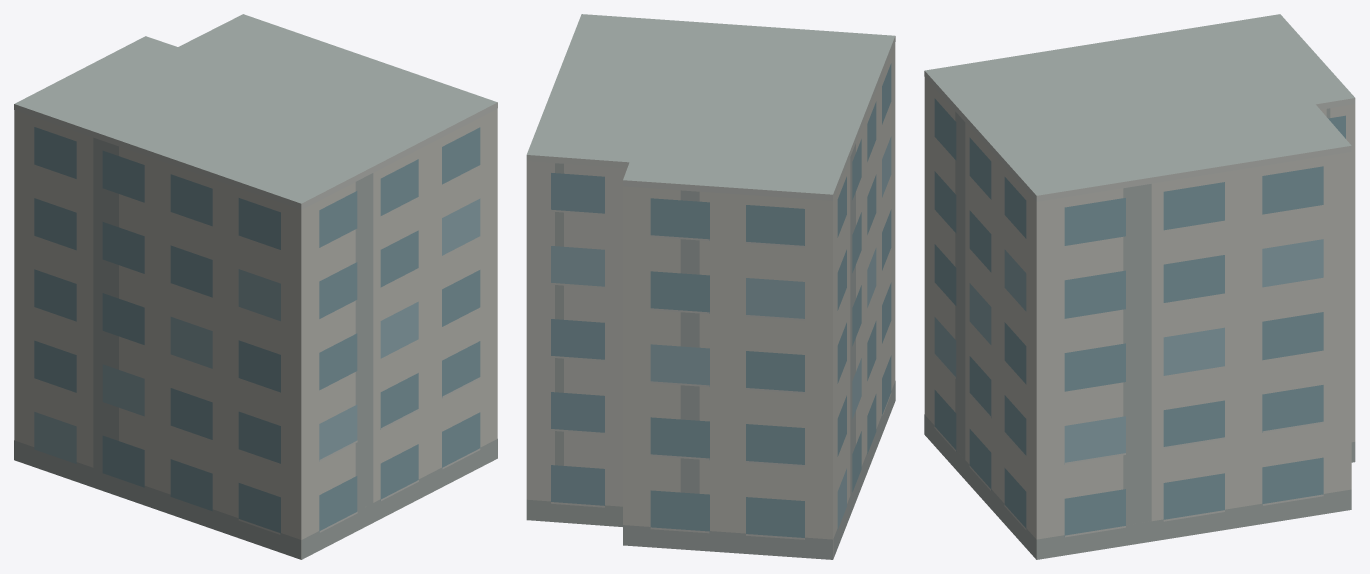
File: survey-upis-32853954.glb
3 views of the same model, side by side, from view 1: azimuth 30°, elevation 25°; view 2: azimuth 150°, elevation 25°; view 3: azimuth 270°, elevation 25° (orthographic). The views are drawn at different scales.
Visible parts, largest first — view 1: survey-upis-32853954.tmp; view 2: survey-upis-32853954.tmp; view 3: survey-upis-32853954.tmp.
Boxes of the visible parts, <box> form: survey-upis-32853954.tmp: <box>14,14,497,559</box>; survey-upis-32853954.tmp: <box>526,14,895,559</box>; survey-upis-32853954.tmp: <box>924,14,1355,559</box>.
Size of the model in its own units: 15.21 by 14.2 by 15.24.
